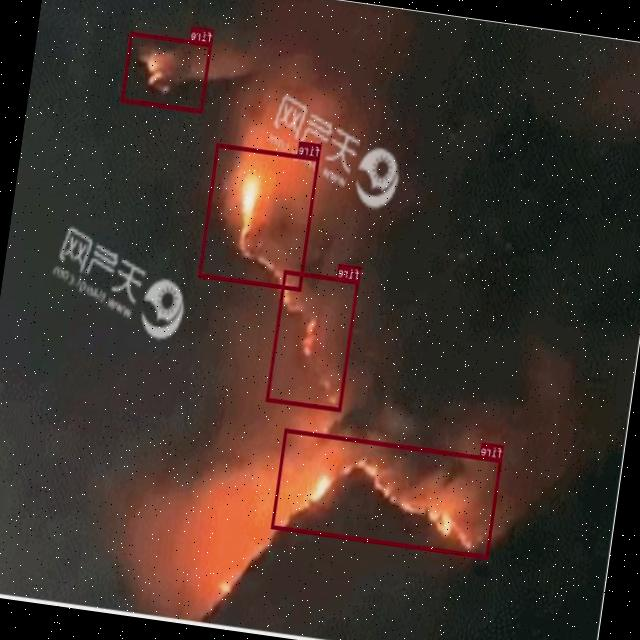fire: (272, 428, 502, 558), (198, 143, 320, 291), (266, 270, 360, 410), (121, 32, 212, 114)
